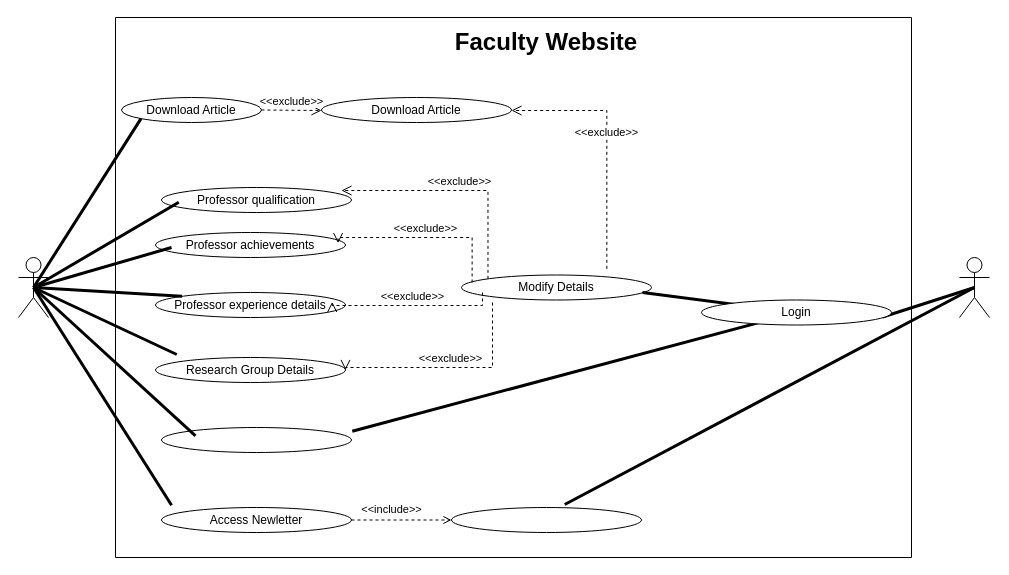
Some shapes in this 1009 by 575 pixel diagram are drawn without their labels. The centre of each missing label's shape, as x and y in pixels:
"Admin" belongs at [974,287].
"Contact Professor" belongs at [256,439].
"Provide Email" belongs at [546,519].
"USER" belongs at [33,287].
